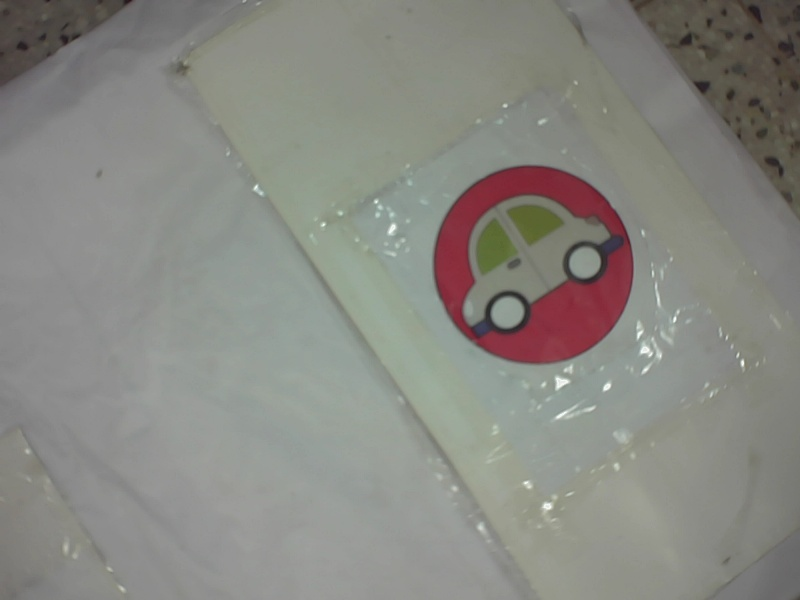areaC: (426, 160, 643, 366)
